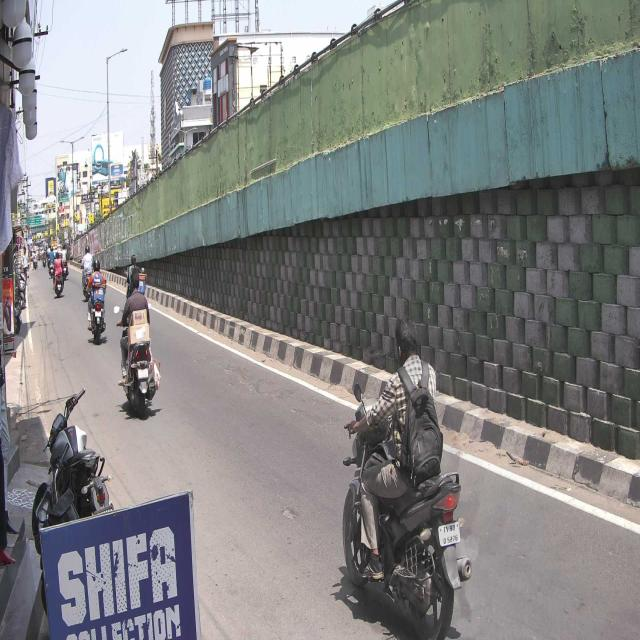single_rider: (342, 313, 470, 640)
